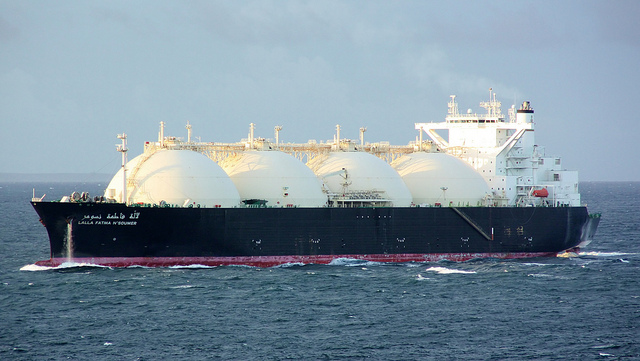LNG_ship: (23, 91, 598, 270)
